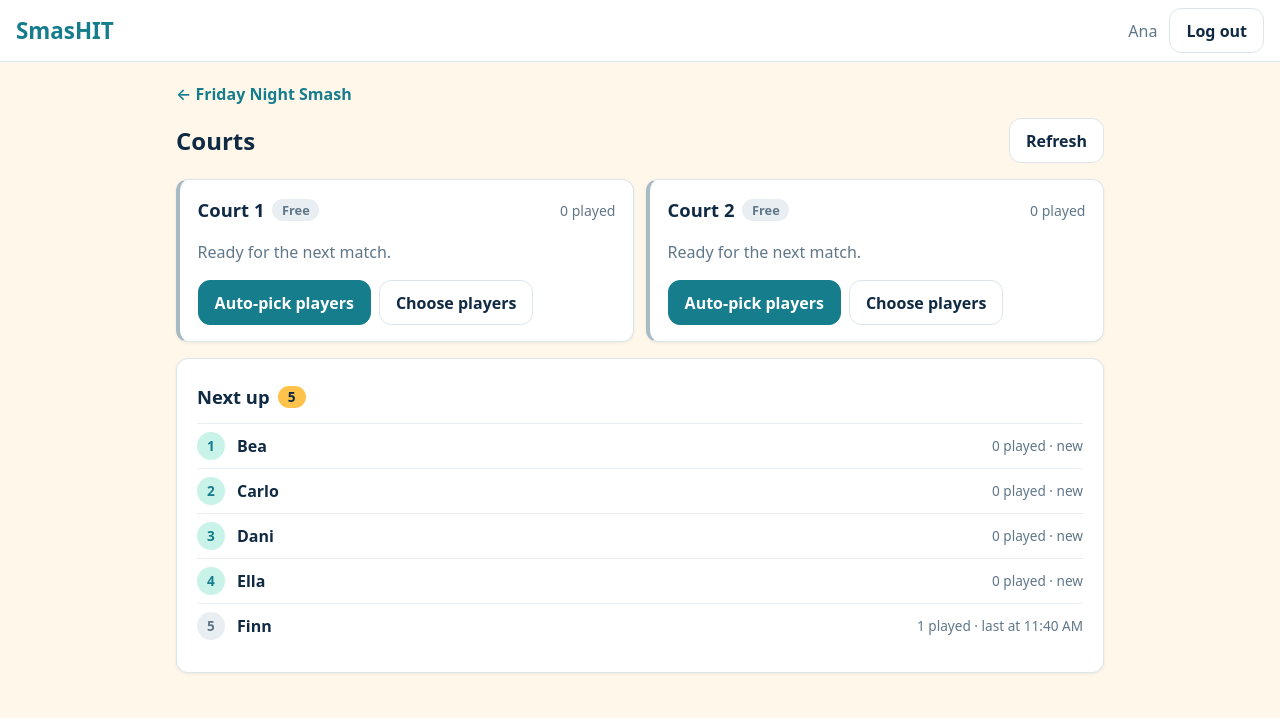
Test case: Courts page › lets the organizer choose some players and auto-picks the rest
// Both courts are free, so look inside Court 1 only.
Click the 1st button "Choose players".
click(456, 303)  # box [379,280,533,325]
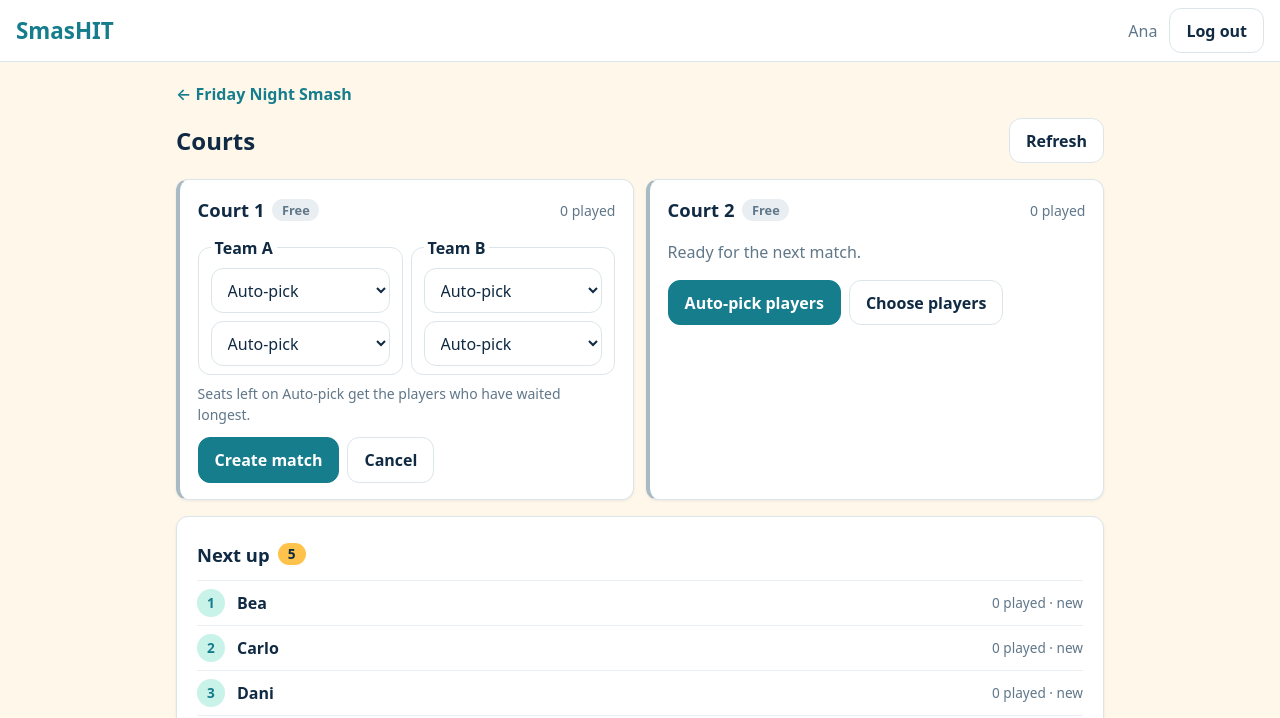
Select "Bea" in the 1st dropdown named "Team A player 1" at (300, 291), box [211,268,390,313]
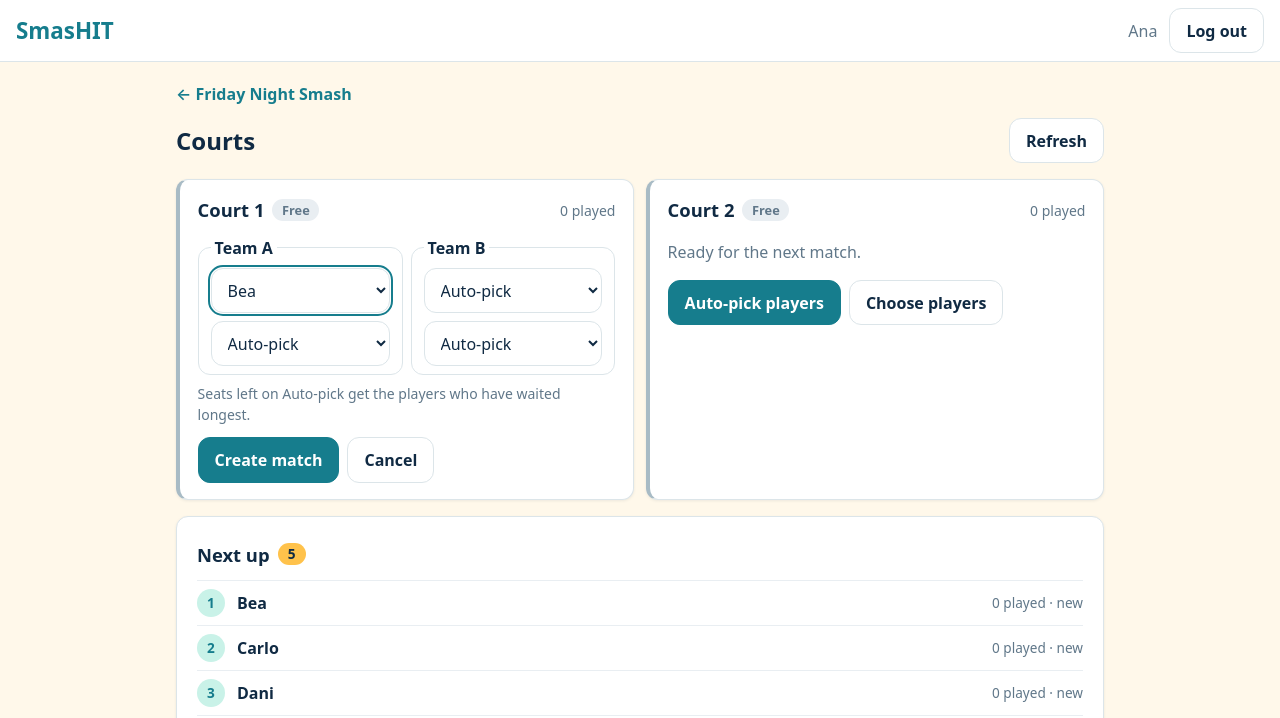
Select "Carlo" in the 2nd dropdown named "Team B player 1" at (513, 291), box [424,268,602,313]
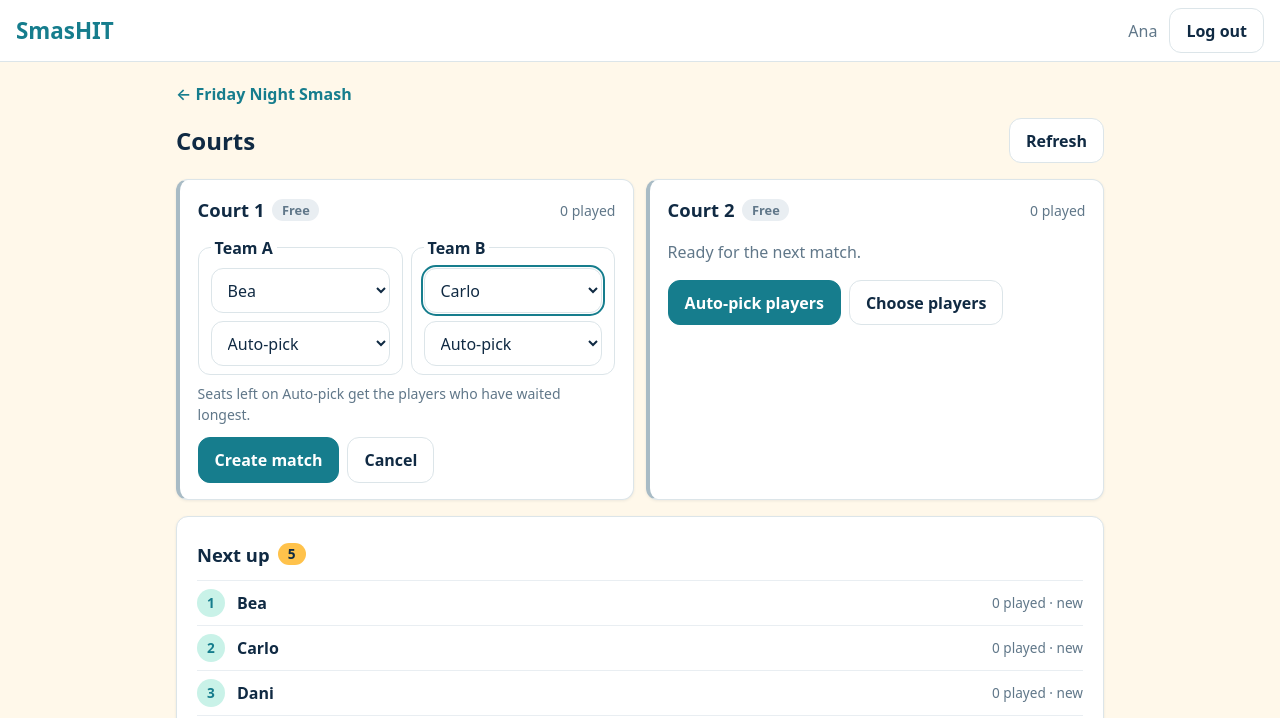
Click the button "Create match".
click(269, 460)  # box [198,437,340,483]
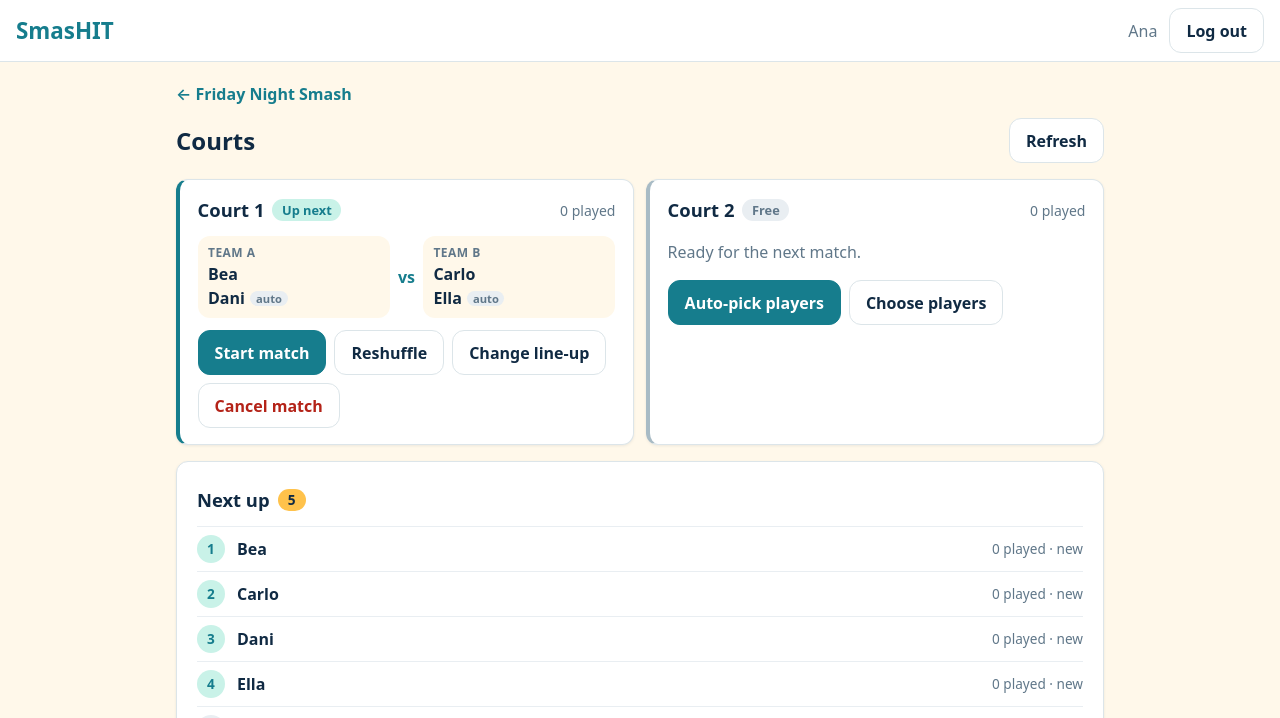
Expected: the text "Up next" is shown, [272,199,341,221]
